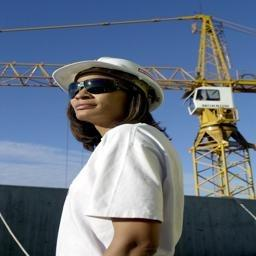hat: (55, 52, 171, 97)
no vest: (66, 126, 182, 256)
